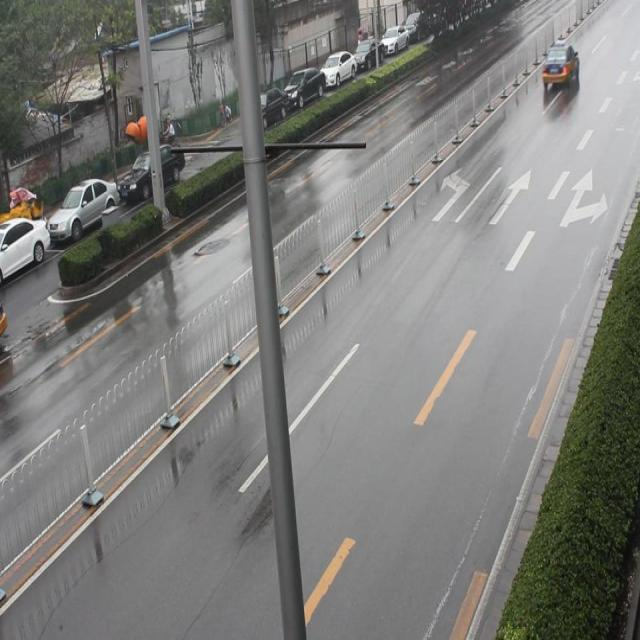car: (535, 39, 582, 96)
